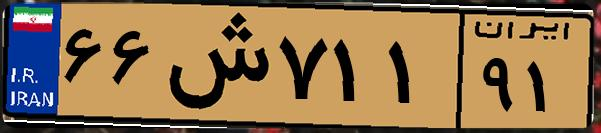1: (385, 28, 445, 110), (330, 28, 385, 110), (525, 38, 570, 115)
6: (57, 26, 110, 100), (110, 28, 158, 98)
7: (270, 28, 330, 110)
9: (475, 38, 525, 113)
ش: (158, 12, 270, 120)
